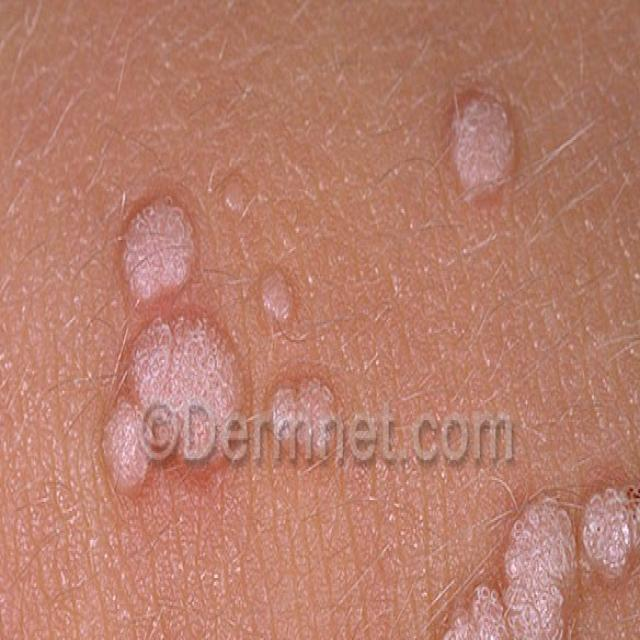Warts: (100, 120, 346, 523), (412, 458, 640, 640), (431, 16, 537, 243)
